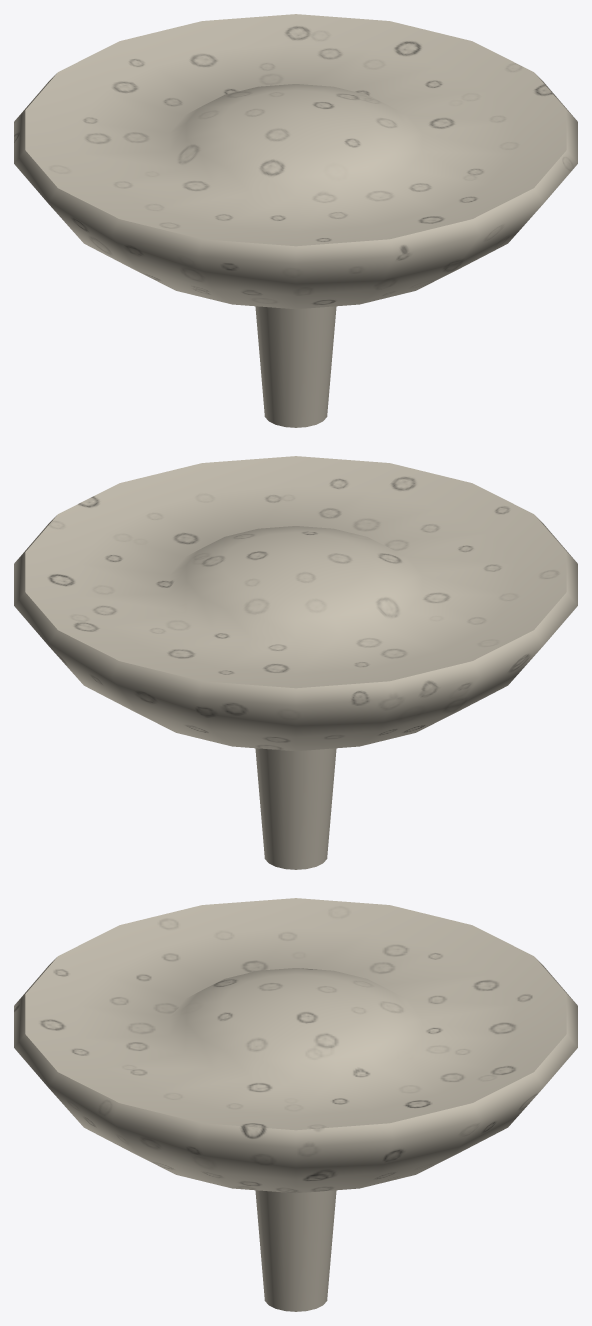
File: mushroom3.fbx
3 renders of one model, top to bottom at view 1: azimuth 30°, elevation 25°; view 2: azimuth 150°, elevation 25°; view 3: azimuth 270°, elevation 25°, orthographic.
Visible parts, largest first — view 1: Mushroom3; view 2: Mushroom3; view 3: Mushroom3.
Part boxes in pixels (box(x1,y1,x2,y2)): Mushroom3: box(14, 14, 577, 427); Mushroom3: box(14, 456, 577, 869); Mushroom3: box(14, 898, 577, 1311).
Bounding box in the file's own units: 46.11 × 26.83 × 45.41.
1 material, 1 textured.
